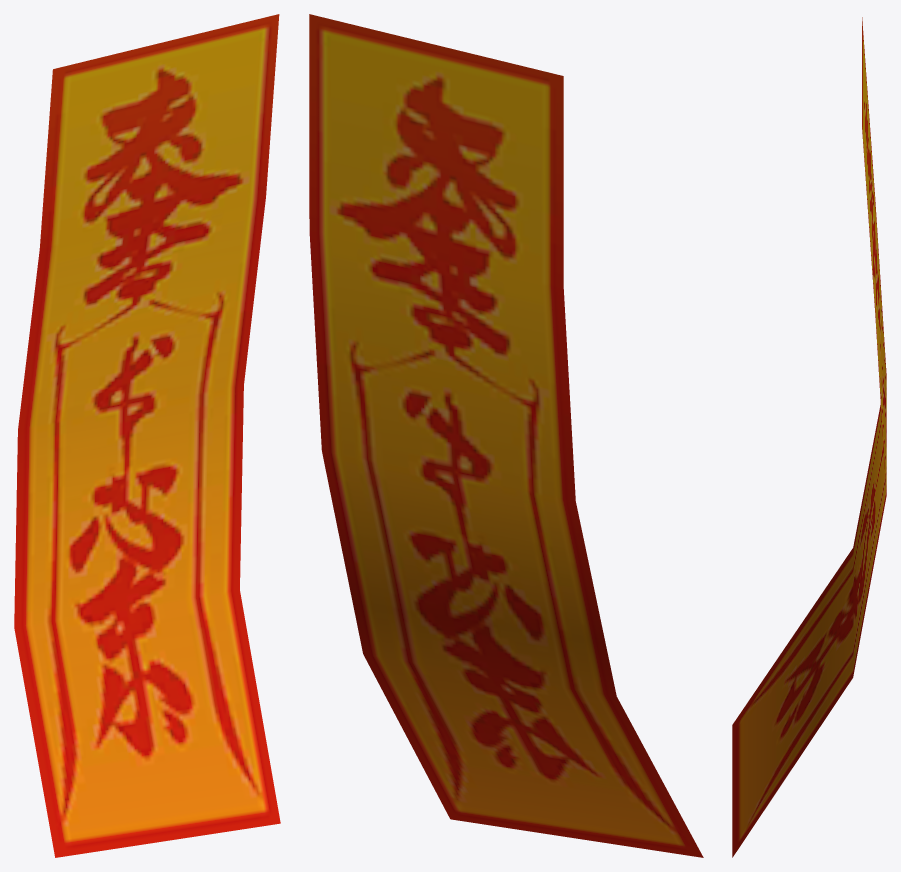
Rendered from acc_face0025.fbx.
3 views of the same model, side by side, from view 1: azimuth 30°, elevation 25°; view 2: azimuth 150°, elevation 25°; view 3: azimuth 270°, elevation 25° (orthographic). The views are drawn at different scales.
Visible parts, largest first — view 1: acc_face0025; view 2: acc_face0025; view 3: acc_face0025.
Part boxes in pixels (x1,y1,x2,y2): acc_face0025: [14, 14, 280, 857]; acc_face0025: [309, 14, 703, 857]; acc_face0025: [732, 17, 886, 857].
Bounding box in the file's own units: 0.1016 × 0.2525 × 0.0462.
